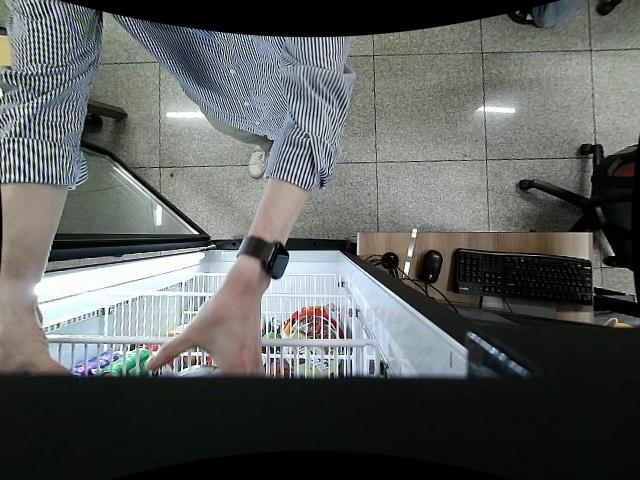00_hand: (143, 316, 266, 373), (0, 290, 78, 379)
